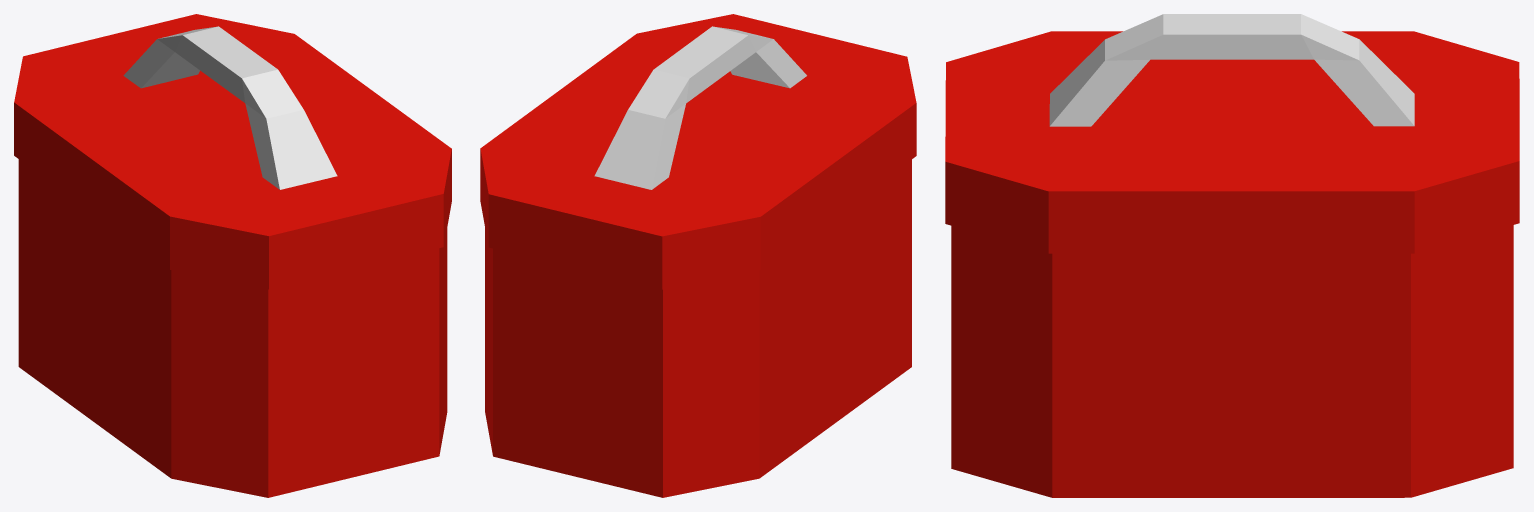
Rendered from Emergency Kit.fbx.
The picture shows the model from 3 angles, left to right: view 1: azimuth 30°, elevation 25°; view 2: azimuth 150°, elevation 25°; view 3: azimuth 270°, elevation 25°; orthographic projection. The views are drawn at different scales.
Parts seen in each view (by area): view 1: Plane; view 2: Plane; view 3: Plane.
Boxes of the visible parts, x1=… form: Plane: x1=14, y1=14, x2=451, y2=497; Plane: x1=480, y1=14, x2=916, y2=497; Plane: x1=945, y1=14, x2=1519, y2=497.
Bounding box in the file's own units: 267 × 307 × 406.
